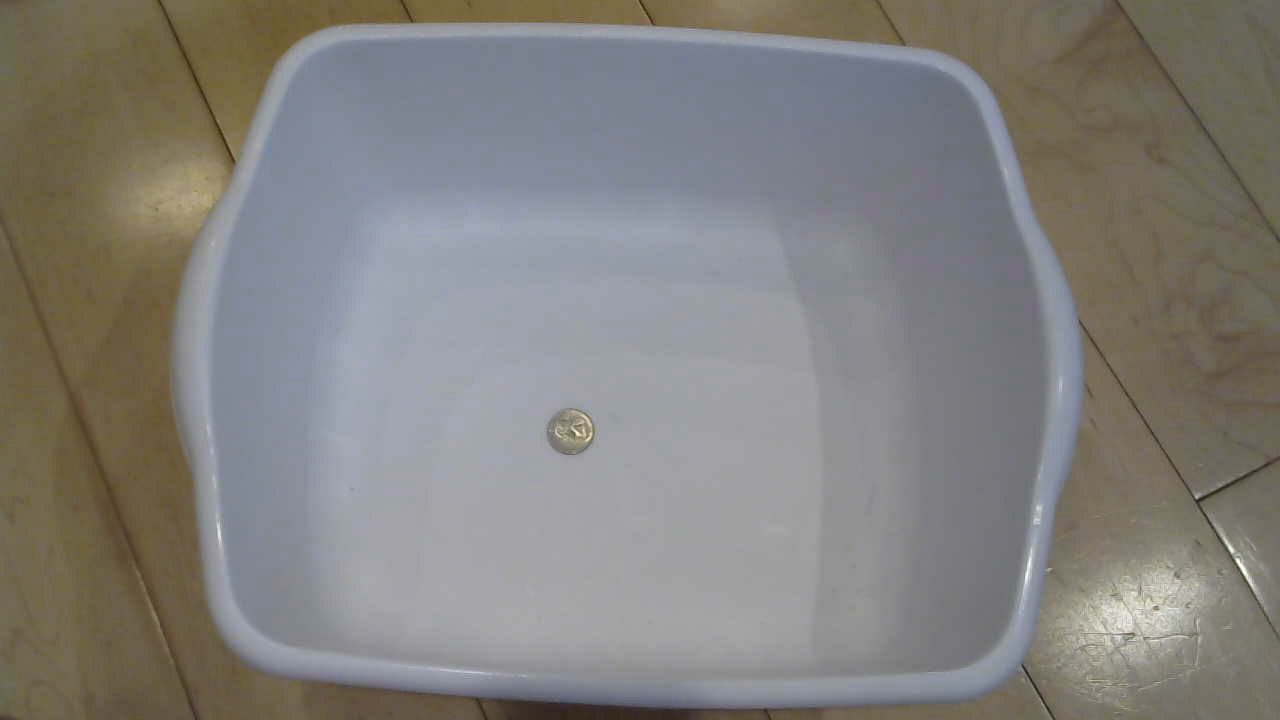coin: (543, 408, 608, 466)
